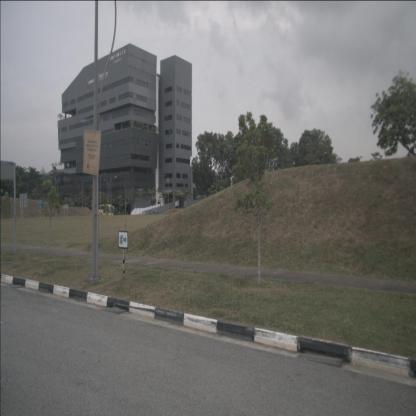vehicle-bus-rigid: (98, 204, 114, 216)
